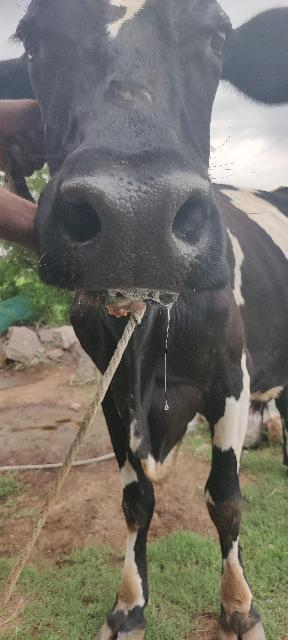Muzzle: (70, 170, 198, 290)
